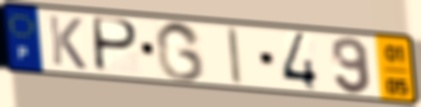4: (278, 30, 323, 93)
9: (330, 35, 374, 97)
G: (154, 19, 207, 83)
I: (225, 26, 244, 87)
K: (46, 13, 89, 72)
P: (93, 15, 141, 75)
